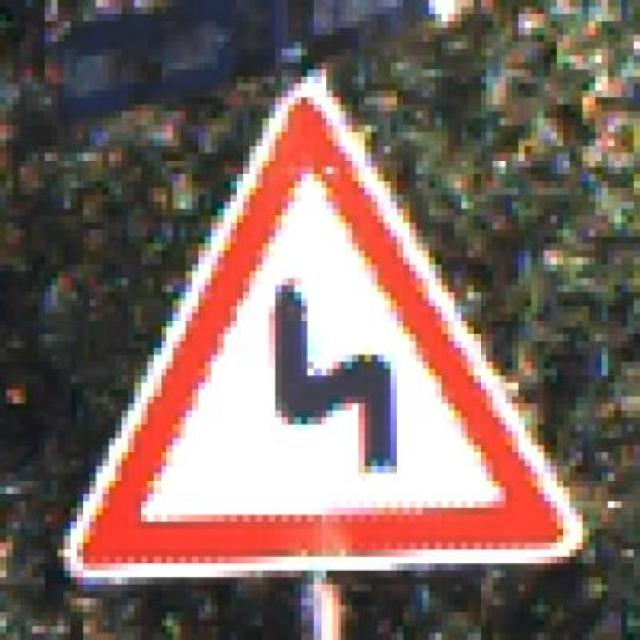Left Zig Zag Traffic: (57, 42, 589, 590)
